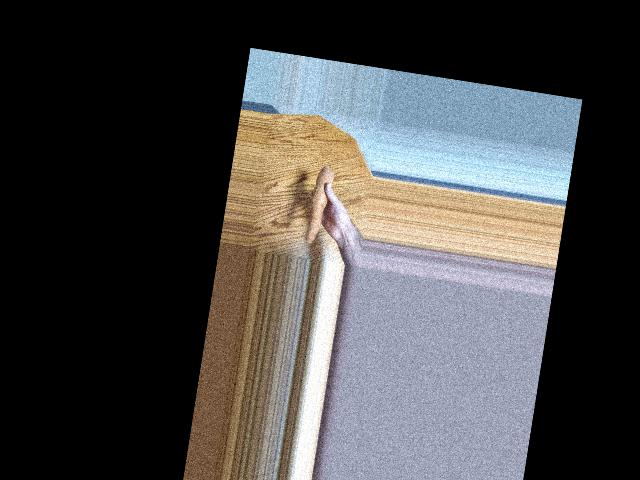sweet_potato: (302, 166, 332, 248)
